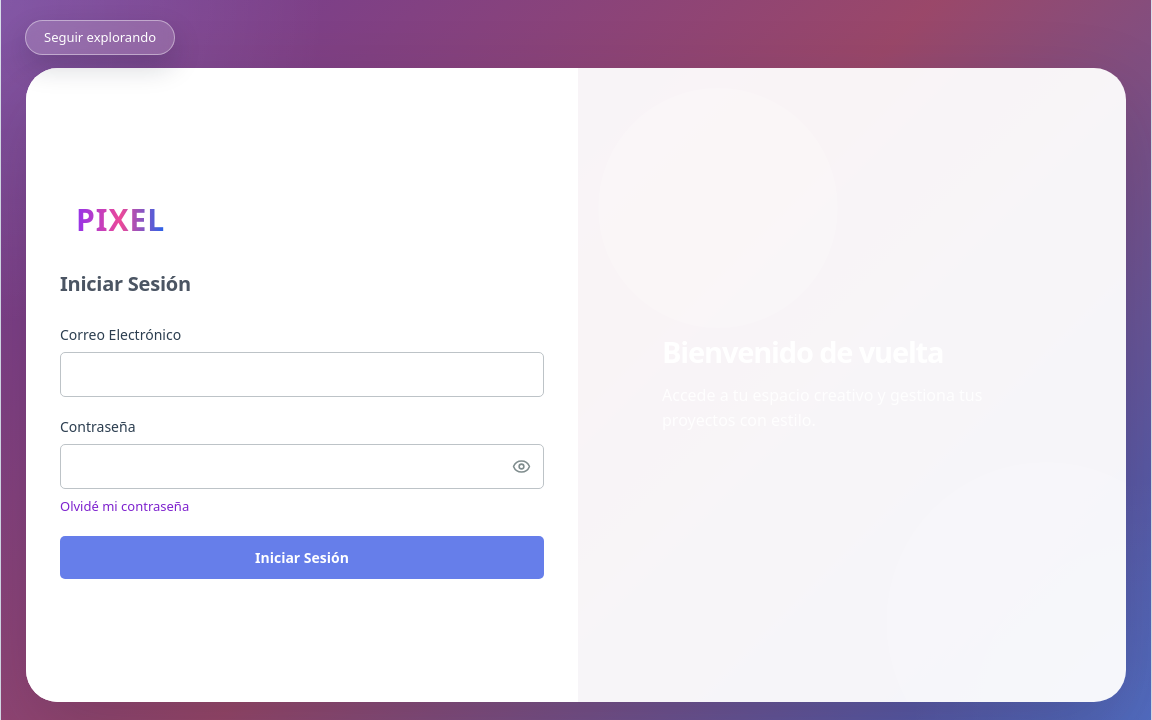
Test: LoginPage › shows and hides the password without changing its value
This screenshot has width=1152, height=720.
Type "Valid123*" into the password field with id "contrasena" at point(302, 467), box x1=60 y1=444 x2=544 y2=489
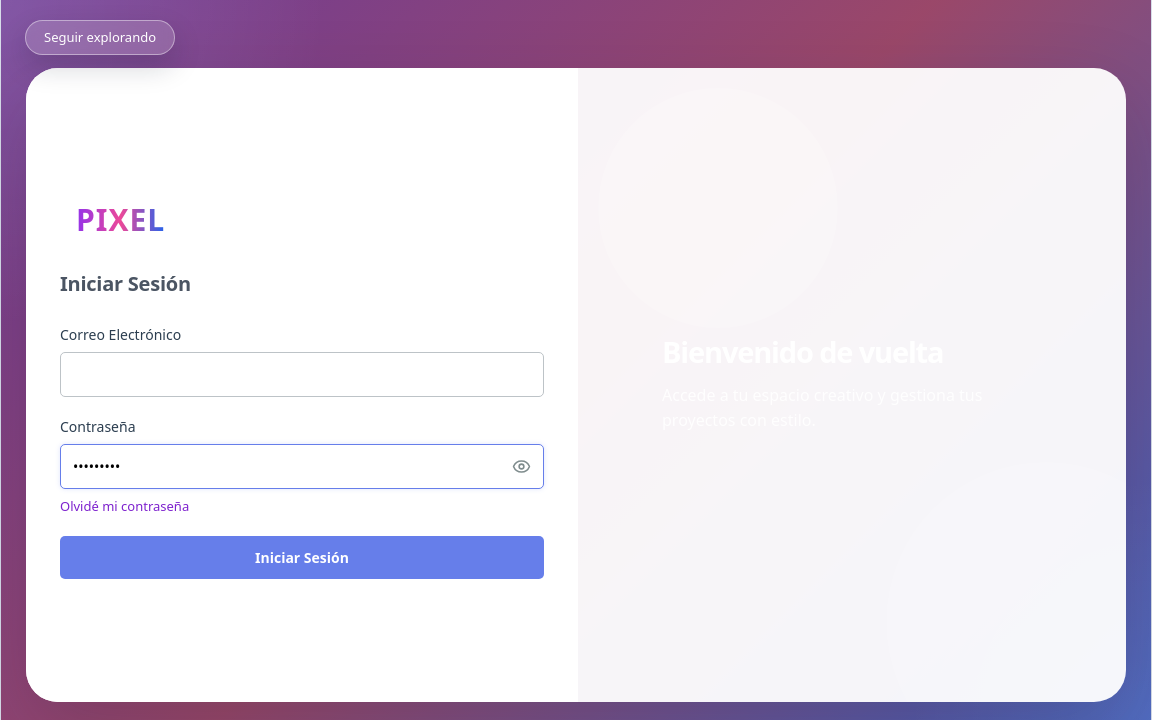
Click the button named "Mostrar contraseña" at point(521, 467), box x1=504 y1=450 x2=538 y2=484
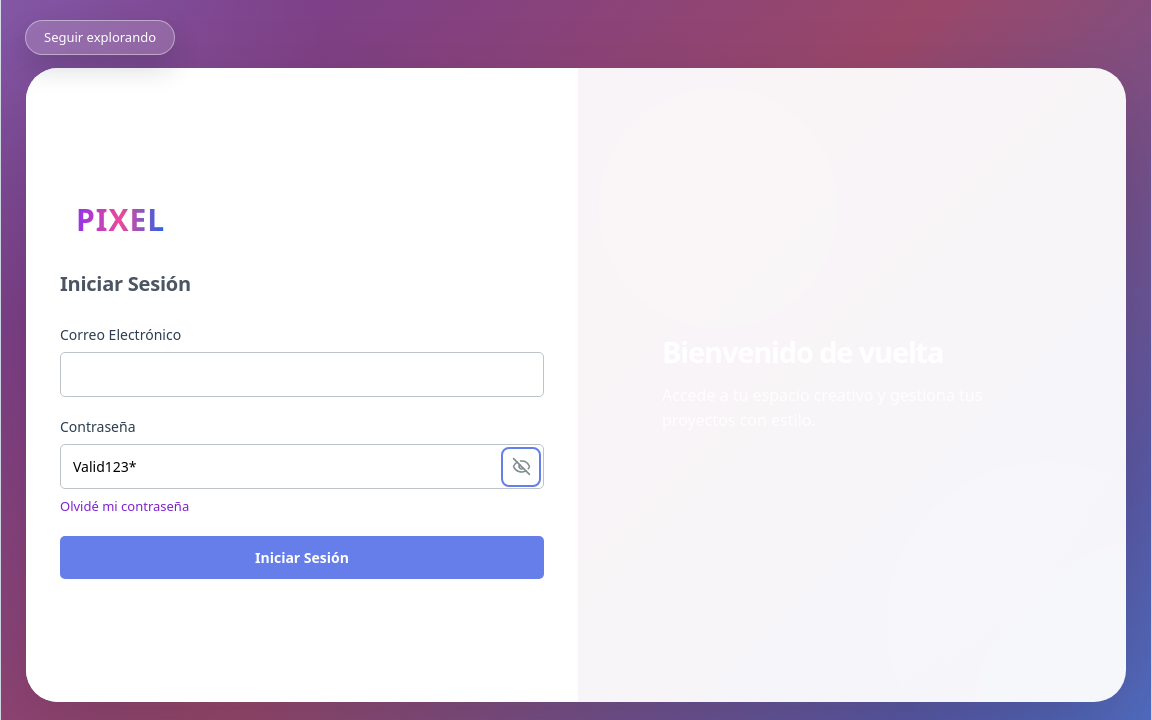
Result: the field with id "contrasena" shows its text at x1=60 y1=444 x2=544 y2=489
Click the button named "Ocultar contraseña" at point(521, 467), box x1=504 y1=450 x2=538 y2=484
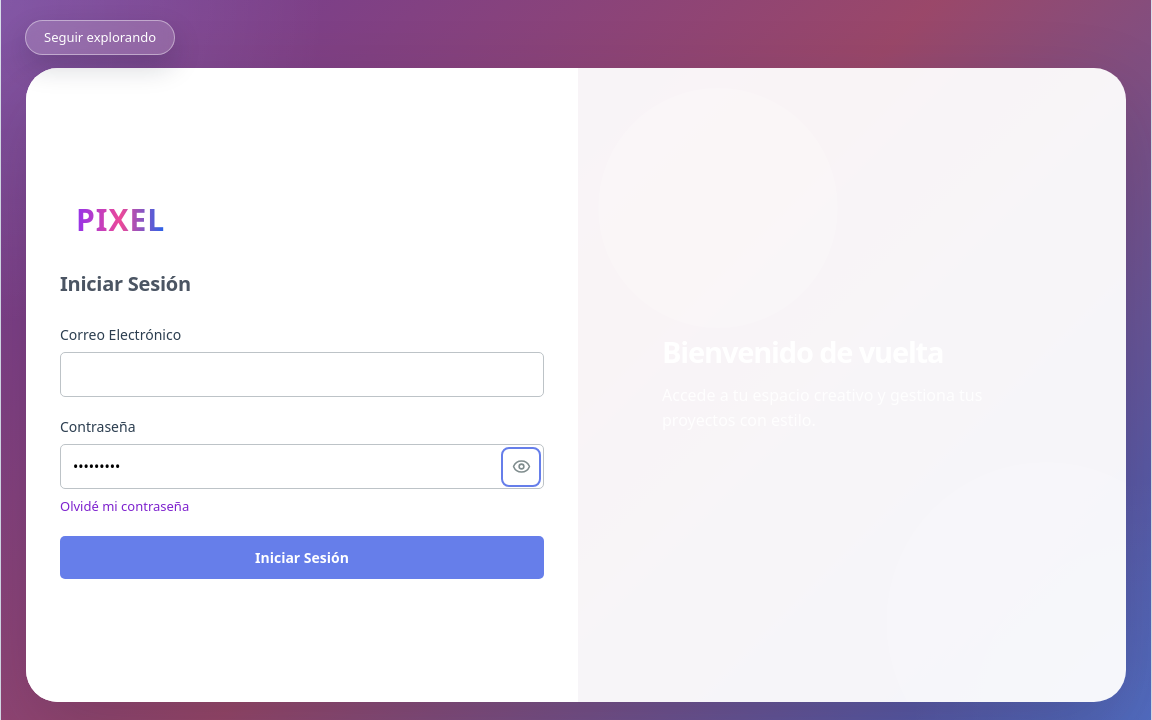
Result: the password field with id "contrasena" hides its text at x1=60 y1=444 x2=544 y2=489
